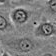cell: (10, 8, 30, 23), (17, 37, 34, 52), (39, 22, 55, 36)
